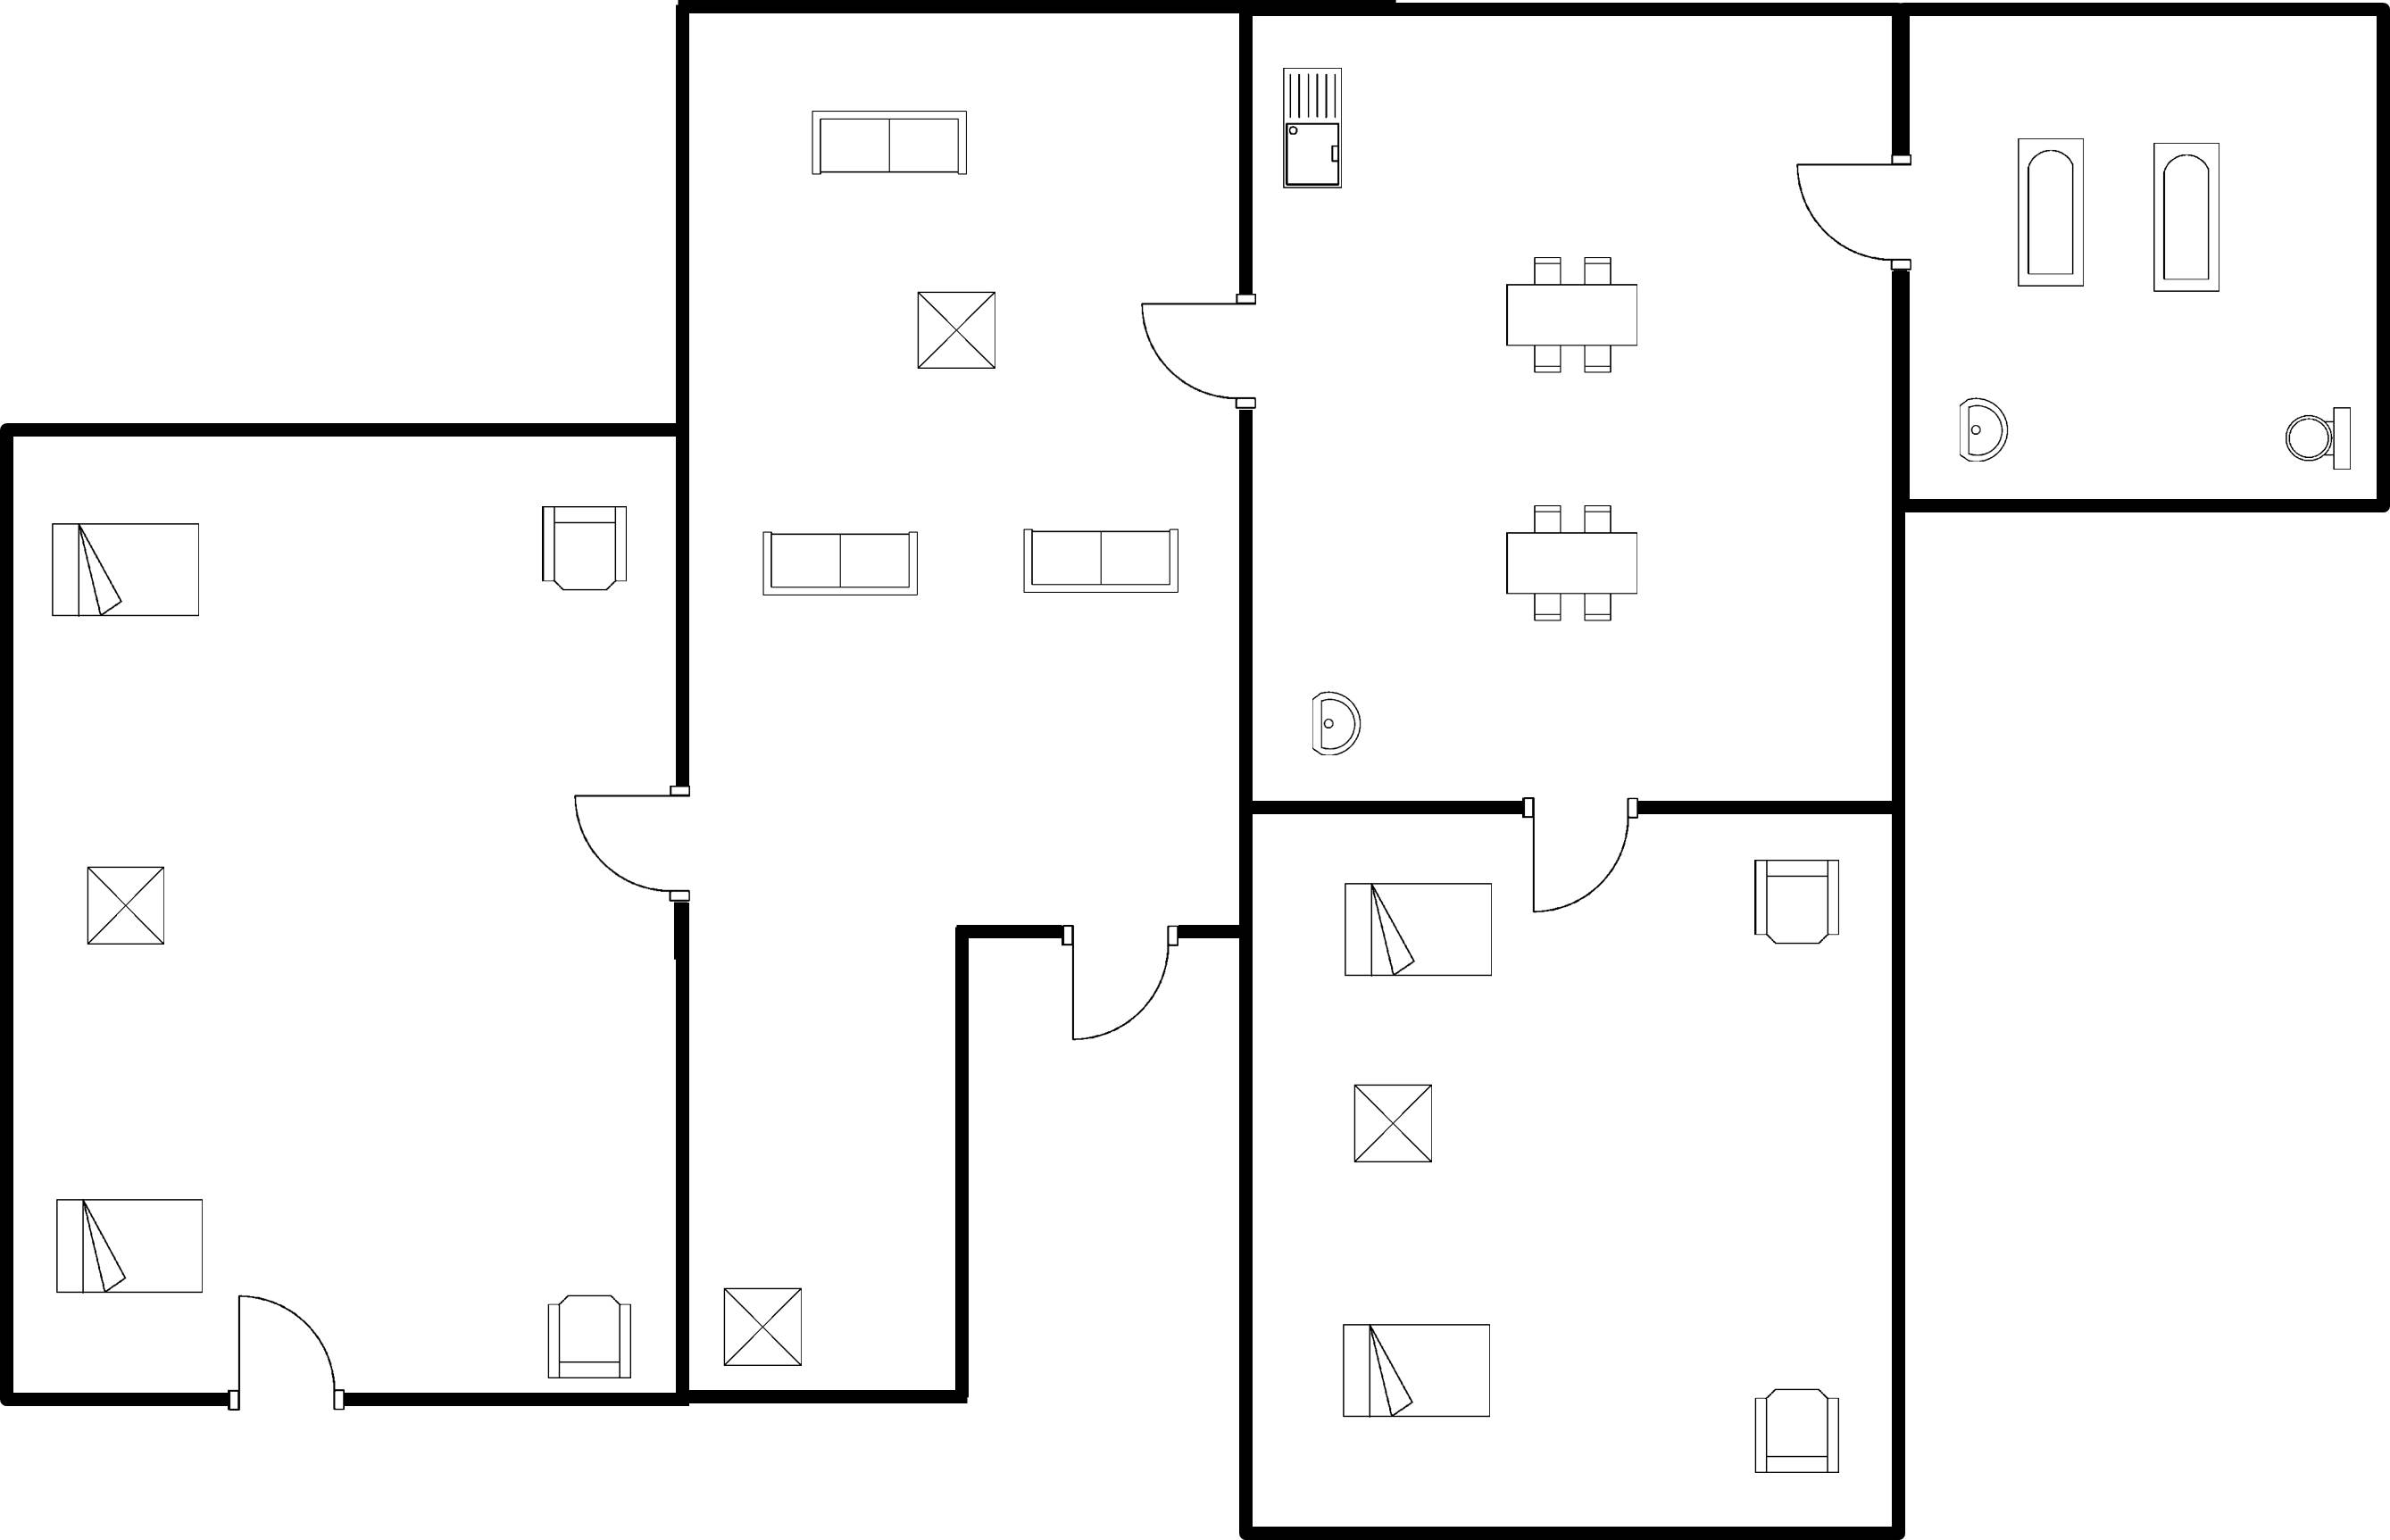armchair: (524, 490, 642, 610), (1736, 1374, 1853, 1491), (1739, 847, 1854, 961), (534, 1283, 644, 1390)
bed: (1328, 868, 1506, 995), (1329, 1314, 1503, 1435), (41, 512, 212, 636), (43, 1187, 218, 1305)
coffee_table: (900, 277, 1006, 386), (1339, 1072, 1444, 1178), (79, 855, 180, 962)
dining_table: (1484, 245, 1653, 388), (1494, 492, 1653, 636)
large_sink: (2269, 394, 2362, 483)
large_sofa: (747, 512, 932, 610), (796, 96, 978, 187), (1010, 516, 1188, 610)
sink: (1270, 54, 1358, 205)
small_sink: (1295, 676, 1370, 770), (1947, 387, 2019, 478)
tub: (2137, 128, 2236, 304), (2005, 126, 2096, 299)
